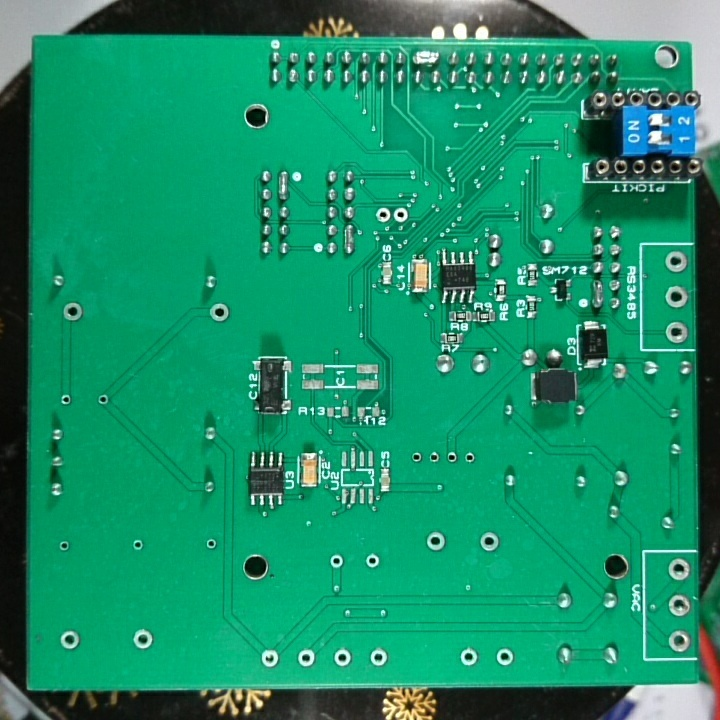F: (662, 248, 691, 277), (663, 317, 691, 346), (663, 282, 690, 312), (206, 301, 234, 329), (665, 591, 694, 618), (666, 626, 693, 655), (59, 300, 87, 326), (667, 555, 692, 584), (130, 627, 155, 653), (477, 528, 502, 554), (424, 528, 448, 554), (493, 646, 517, 671), (57, 628, 82, 652), (295, 645, 318, 670), (259, 646, 282, 671), (332, 646, 354, 671), (458, 645, 481, 668), (368, 647, 389, 668), (362, 551, 382, 572), (328, 551, 347, 573), (444, 448, 462, 469), (374, 205, 392, 226), (392, 203, 408, 226), (409, 448, 426, 469), (427, 447, 442, 470), (462, 447, 477, 470), (57, 391, 74, 409), (55, 538, 72, 555), (130, 536, 146, 554), (203, 534, 217, 553), (94, 391, 110, 407)
P: (409, 47, 443, 69), (588, 276, 606, 312), (340, 222, 357, 256), (275, 167, 291, 202)
